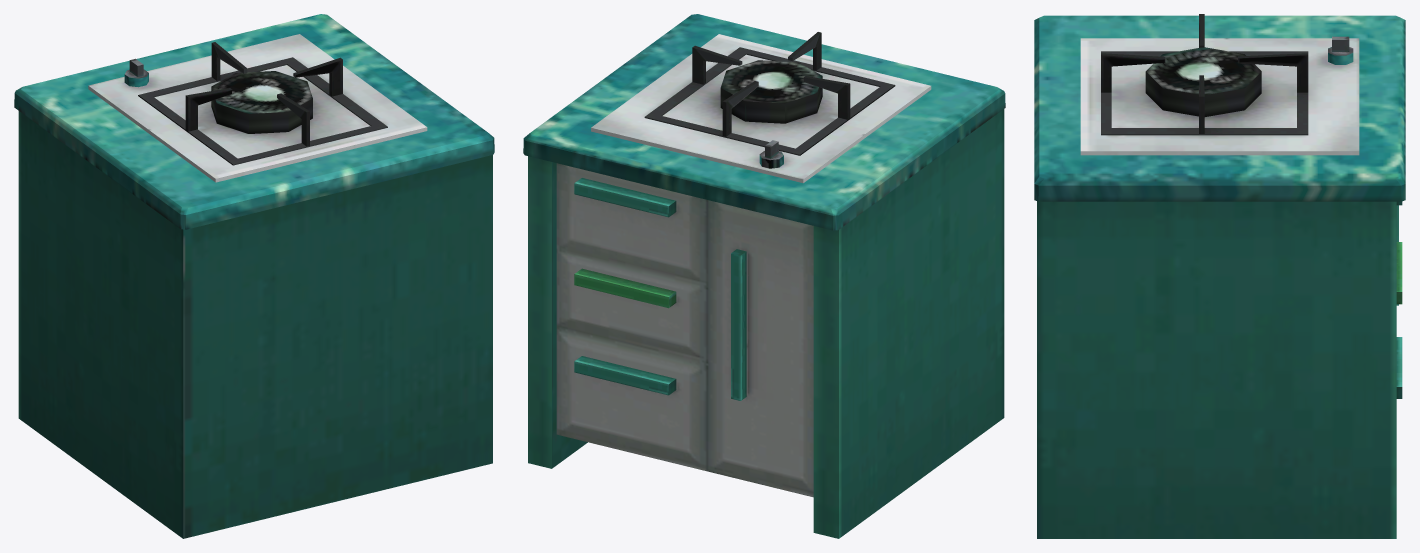
File: furni_0200520_02.FBX
The picture shows the model from 3 angles, left to right: view 1: azimuth 30°, elevation 25°; view 2: azimuth 150°, elevation 25°; view 3: azimuth 270°, elevation 25°; orthographic projection. The views are drawn at different scales.
Visible parts, largest first — view 1: furni_0200520_02; view 2: furni_0200520_02; view 3: furni_0200520_02.
Boxes of the visible parts, x1,y1,x2,y2 form: furni_0200520_02: (14, 14, 494, 538); furni_0200520_02: (523, 14, 1005, 538); furni_0200520_02: (1034, 14, 1405, 538).
Bounding box in the file's own units: 79.9 × 89.5 × 74.96.
1 material, 1 textured.
